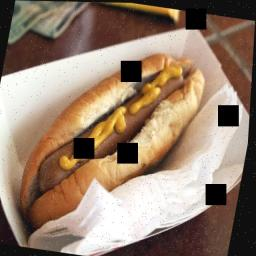hotdog: (44, 53, 188, 205)
